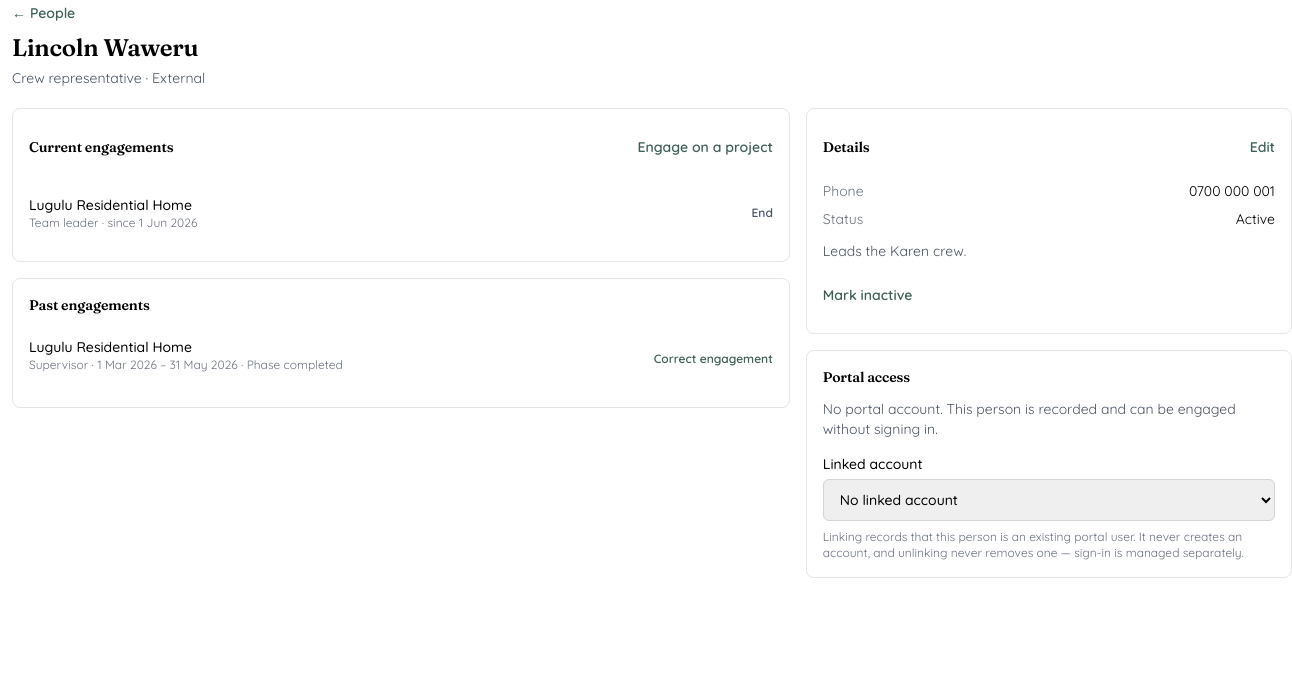
Person detail › refuses an edit that renames a person onto another person's name
The width and height of the screenshot is (1292, 676).
Click the button "Edit" at [1262, 147], box [1250,125,1275,169]
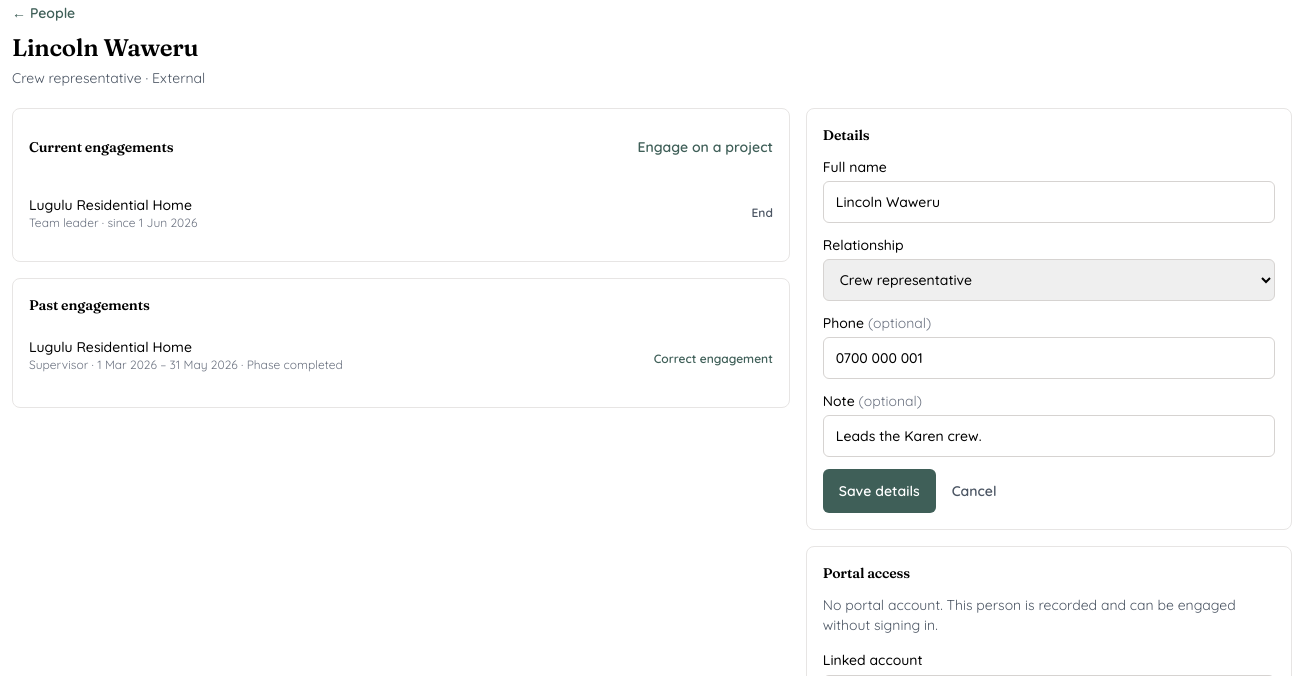
Replace the text in the field labelled "Full name" with "  martine   lotom " at [1049, 202], box [823,181,1275,223]
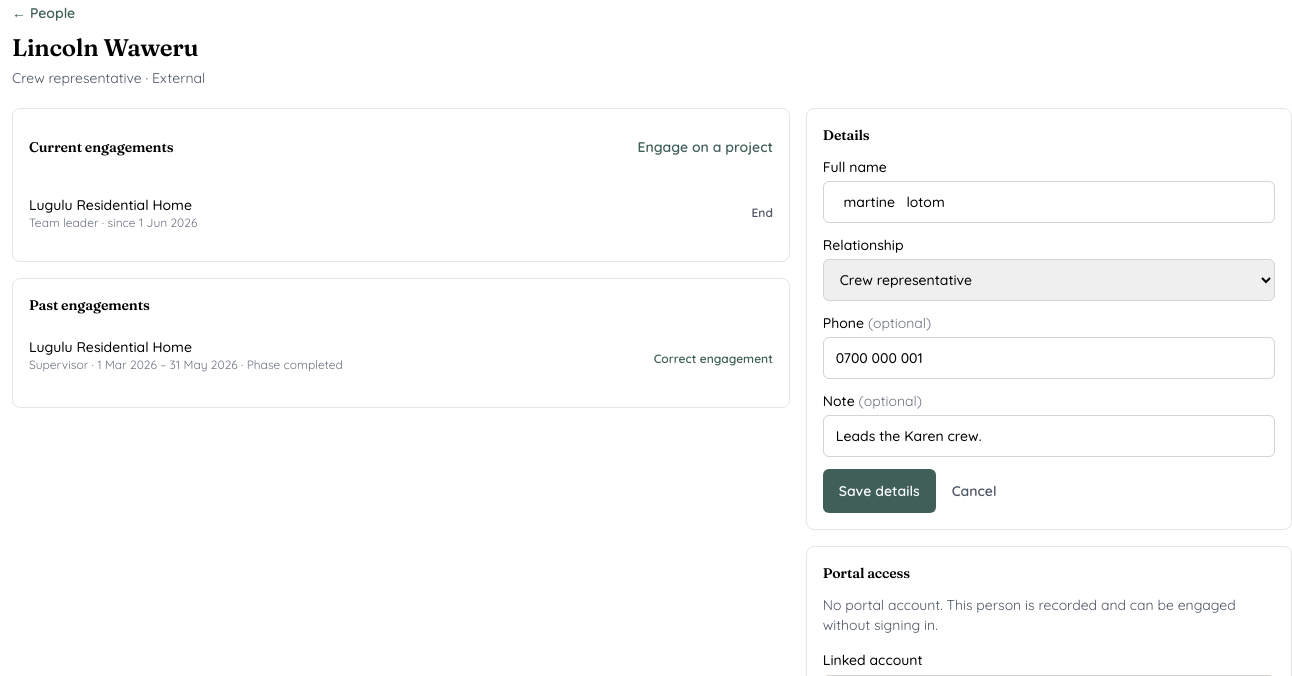
Click the button "Save details" at [879, 491], box [823,469,936,513]
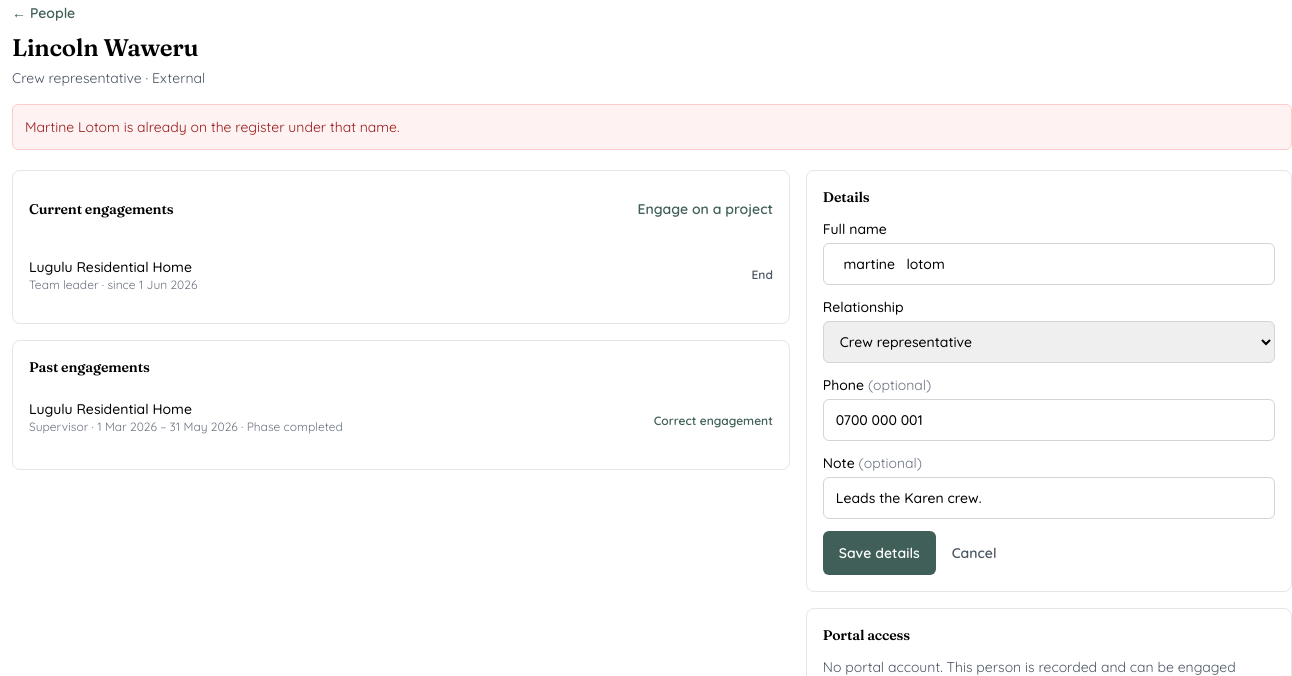
Expected: the text "Martine Lotom is already on the register under that name." is shown, [12,104,1291,150]
